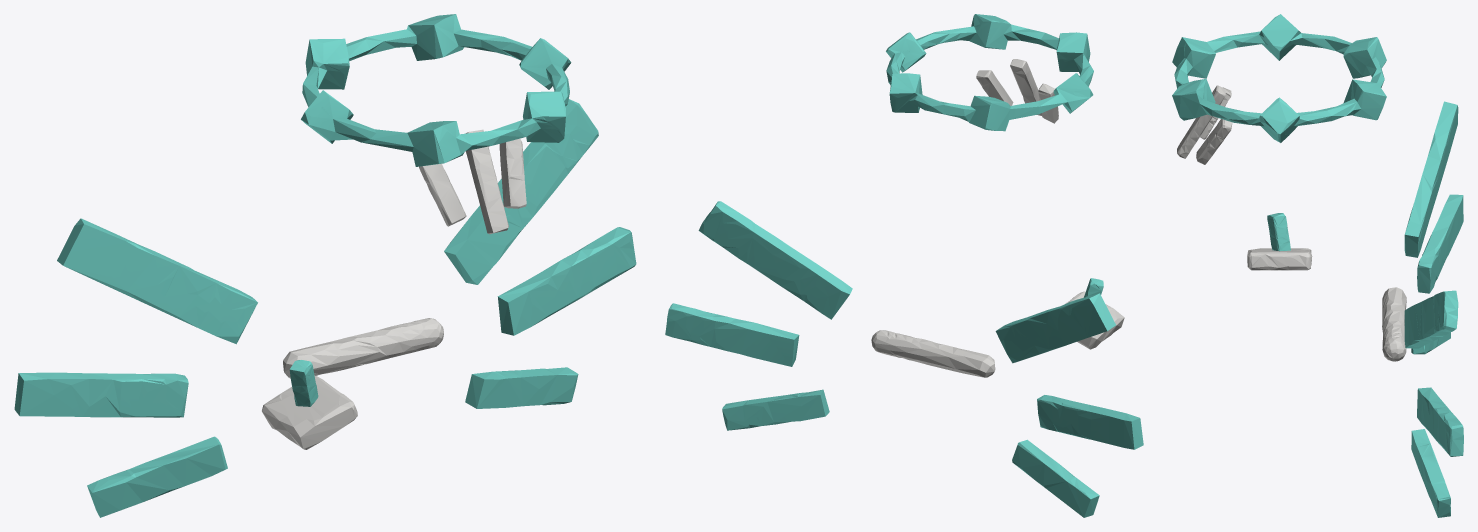
Rendered from tenue_prisme.glb.
3 renders of one model, left to right at view 1: azimuth 30°, elevation 25°; view 2: azimuth 150°, elevation 25°; view 3: azimuth 270°, elevation 25°, orthographic. The views are drawn at different scales.
Parts seen in each view (by area): view 1: torso__ailes_glow, head__halo_spin_glow, head__coiffe, torso__ailes, arm_r__epaule, arm_r__epaule_glow; view 2: torso__ailes_glow, head__halo_spin_glow, torso__ailes, head__coiffe, arm_r__epaule; view 3: torso__ailes_glow, head__halo_spin_glow, head__coiffe, torso__ailes, arm_r__epaule, arm_r__epaule_glow.
Boxes of the visible parts, bbox=[...] form: torso__ailes_glow: bbox=[14, 99, 636, 517]; head__halo_spin_glow: bbox=[301, 14, 571, 166]; head__coiffe: bbox=[419, 129, 526, 234]; torso__ailes: bbox=[283, 318, 443, 378]; arm_r__epaule: bbox=[262, 375, 357, 449]; arm_r__epaule_glow: bbox=[289, 360, 318, 406]; torso__ailes_glow: bbox=[665, 201, 1143, 517]; head__halo_spin_glow: bbox=[886, 14, 1093, 131]; torso__ailes: bbox=[871, 330, 995, 377]; head__coiffe: bbox=[976, 59, 1058, 123]; arm_r__epaule: bbox=[1066, 291, 1124, 349]; torso__ailes_glow: bbox=[1404, 101, 1463, 517]; head__halo_spin_glow: bbox=[1172, 14, 1386, 142]; head__coiffe: bbox=[1177, 85, 1232, 164]; torso__ailes: bbox=[1382, 287, 1406, 361]; arm_r__epaule: bbox=[1247, 248, 1312, 270]; arm_r__epaule_glow: bbox=[1267, 213, 1290, 251].
Bounding box in the file's own units: 1.22 × 0.8903 × 0.635.
